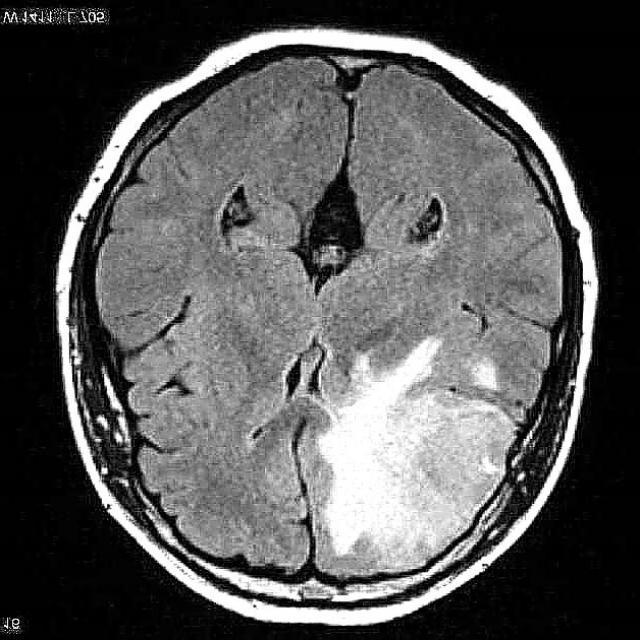tumor: (308, 344, 517, 579)
